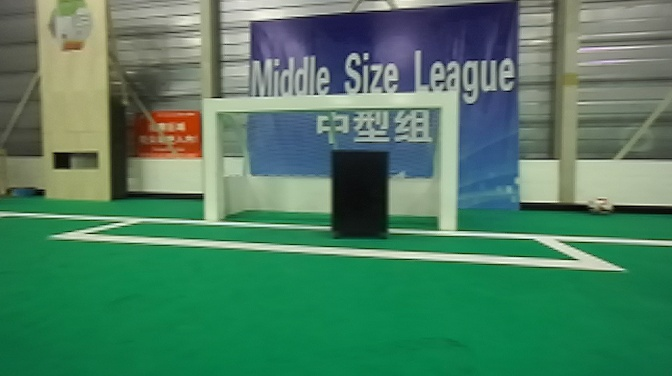ball: (587, 194, 614, 213)
goalpost: (435, 87, 461, 237), (202, 96, 226, 223)
